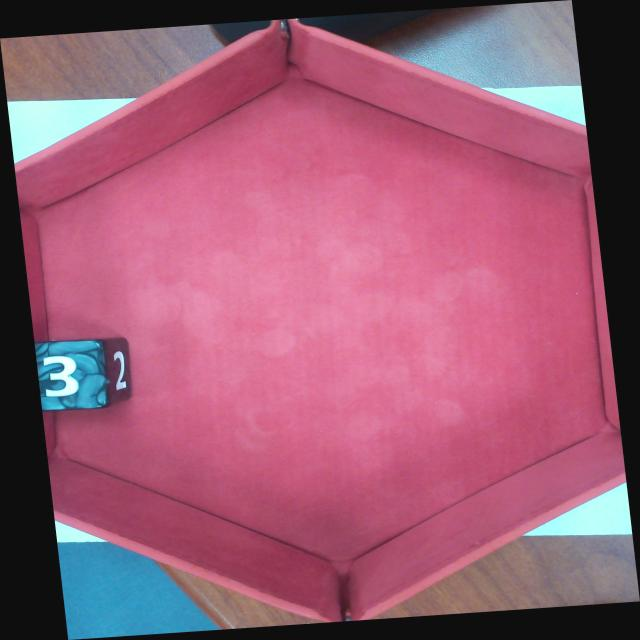dice: (32, 336, 110, 411)
